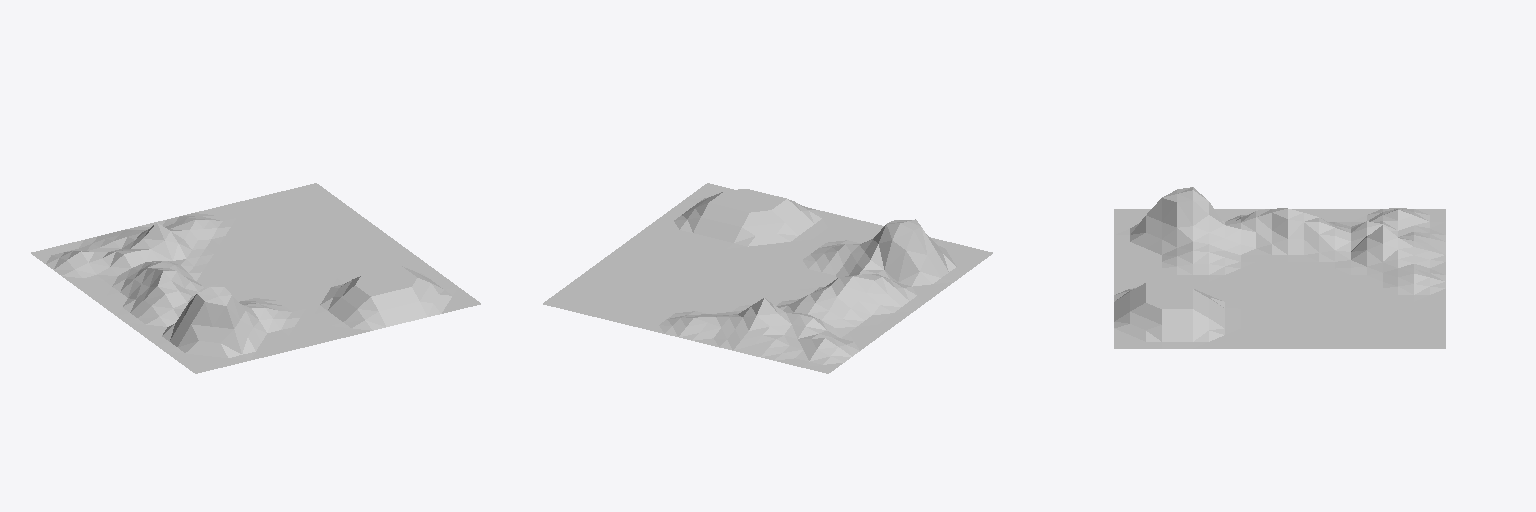
The model's file is terrain.obj.
3 views of the same model, side by side, from view 1: azimuth 30°, elevation 25°; view 2: azimuth 150°, elevation 25°; view 3: azimuth 270°, elevation 25° (orthographic).
Parts seen in each view (by area): view 1: Plane; view 2: Plane; view 3: Plane.
Part boxes in pixels (bbox=[...]): Plane: bbox=[31, 183, 480, 373]; Plane: bbox=[543, 183, 992, 373]; Plane: bbox=[1114, 187, 1445, 348].
Bounding box in the file's own units: 20 × 3 × 20.